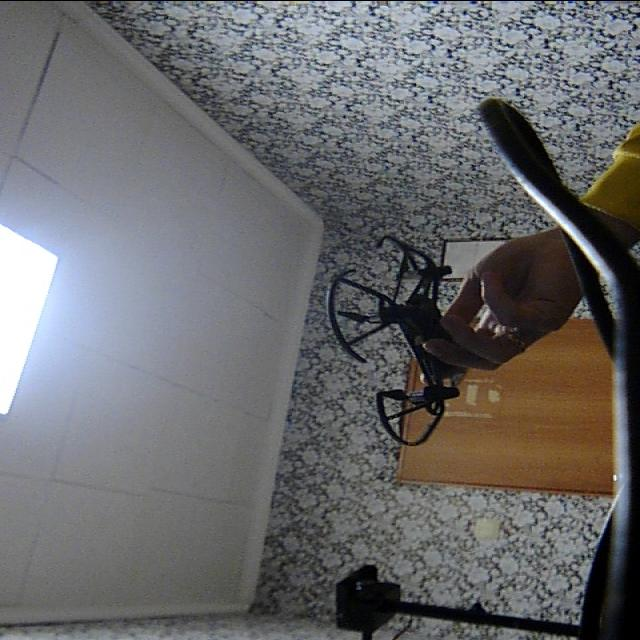drone: (316, 226, 516, 454)
